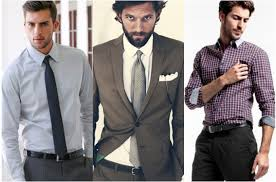F_belt: (92, 157, 151, 179), (20, 146, 89, 160), (201, 120, 256, 135)
F_shirt: (3, 43, 96, 165)
F_tie: (39, 55, 74, 161), (124, 50, 154, 169)
